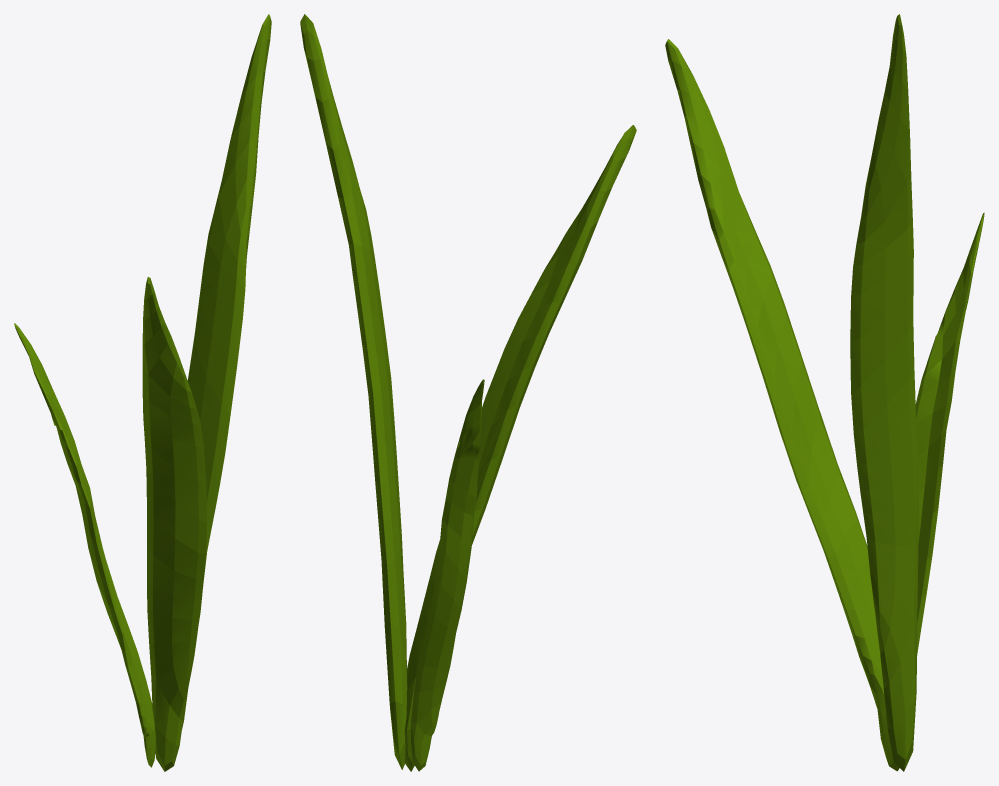
File: grass.fbx
The picture shows the model from 3 angles, left to right: view 1: azimuth 30°, elevation 25°; view 2: azimuth 150°, elevation 25°; view 3: azimuth 270°, elevation 25°; orthographic projection. The views are drawn at different scales.
Visible parts, largest first — view 1: polySurface1, pasted__polySurface1, leaf:polySurface1; view 2: pasted__polySurface1, polySurface1, leaf:polySurface1; view 3: pasted__polySurface1, polySurface1, leaf:polySurface1.
Part boxes in pixels (x1,y1,x2,y2): polySurface1: (142,277,207,771); pasted__polySurface1: (182,14,271,728); leaf:polySurface1: (14,323,155,767); pasted__polySurface1: (300,14,407,769); polySurface1: (404,125,636,771); leaf:polySurface1: (410,379,484,771); pasted__polySurface1: (850,14,918,771); polySurface1: (665,39,899,771); leaf:polySurface1: (915,212,984,655).
Size of the model in its own units: 0.8813 by 2.68 by 0.9514.
